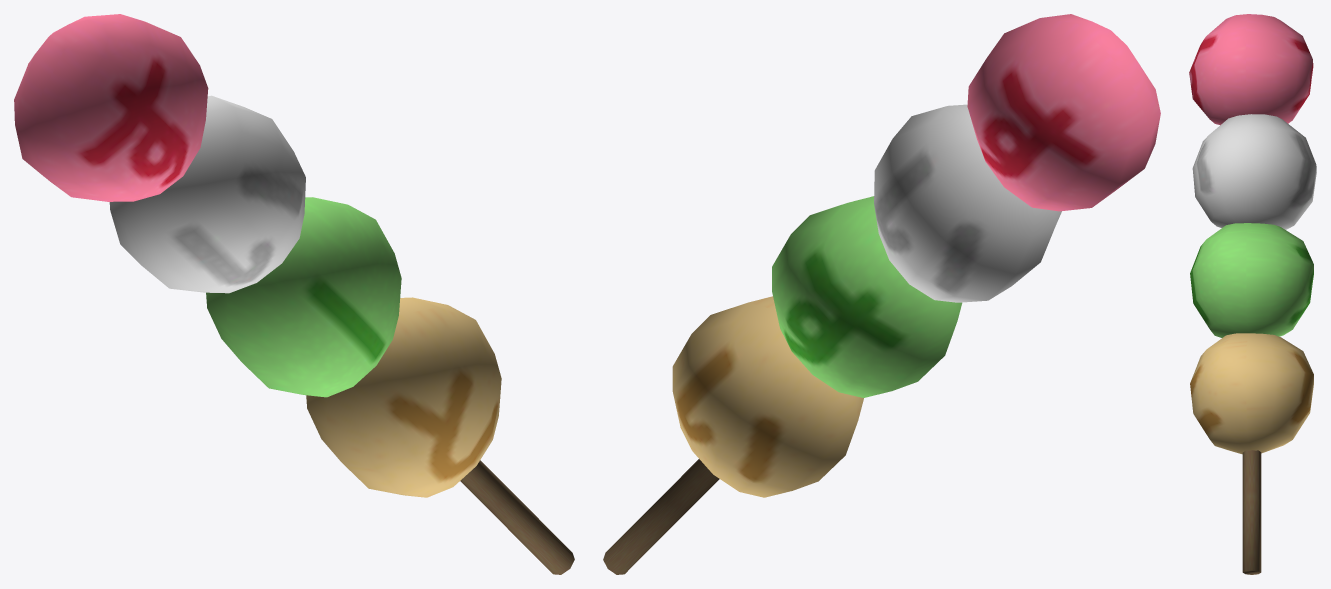
File: sweet.ico.obj
The picture shows the model from 3 angles, left to right: view 1: azimuth 30°, elevation 25°; view 2: azimuth 150°, elevation 25°; view 3: azimuth 270°, elevation 25°; orthographic projection. The views are drawn at different scales.
Size of the model in its own units: 3.36 by 3.9 by 1.07.
1 material, 1 textured.
